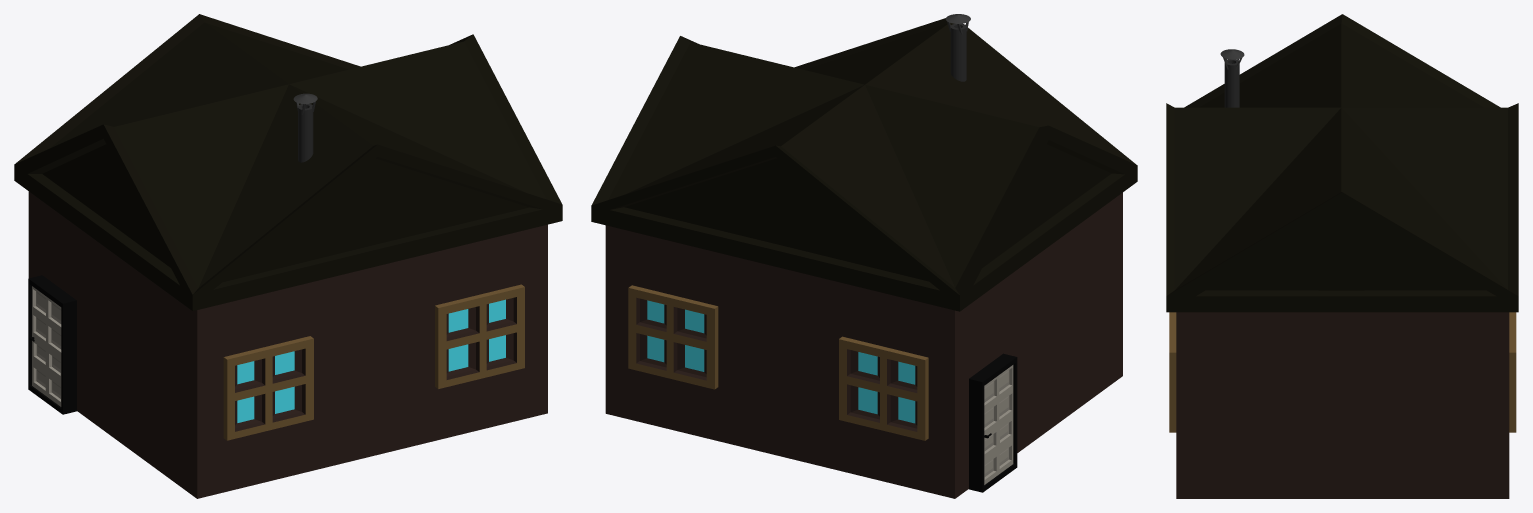
File: Home.fbx
3 views of the same model, side by side, from view 1: azimuth 30°, elevation 25°; view 2: azimuth 150°, elevation 25°; view 3: azimuth 270°, elevation 25° (orthographic).
Visible parts, largest first — view 1: Roof, Home, DoorFrame, Door, Cylinder; view 2: Roof, Home, DoorFrame, Door, Cylinder; view 3: Roof, Home, Cylinder.
Part boxes in pixels (box(x1,y1,x2,y2)): Roof: box(14, 14, 562, 310); Home: box(28, 191, 547, 498); DoorFrame: box(28, 275, 76, 414); Door: box(32, 286, 61, 406); Cylinder: box(298, 103, 313, 162); Roof: box(591, 18, 1137, 311); Home: box(605, 192, 1122, 498); DoorFrame: box(969, 353, 1017, 492); Door: box(984, 365, 1013, 484); Cylinder: box(950, 23, 966, 81); Roof: box(1166, 14, 1518, 312); Home: box(1169, 312, 1516, 498); Cylinder: box(1224, 59, 1239, 107).
Size of what is drawn, in the model's own units: 1824 by 1623 by 1496.
